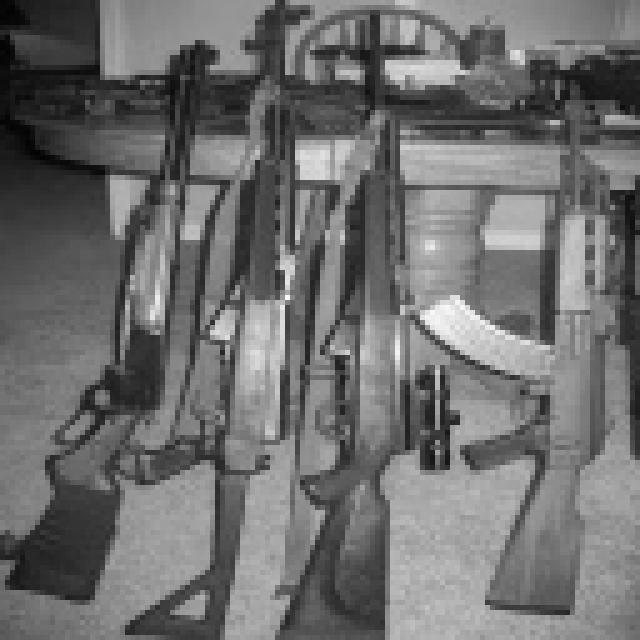Rifle: (395, 25, 639, 640), (0, 40, 220, 640), (269, 0, 469, 640), (113, 0, 300, 640)
